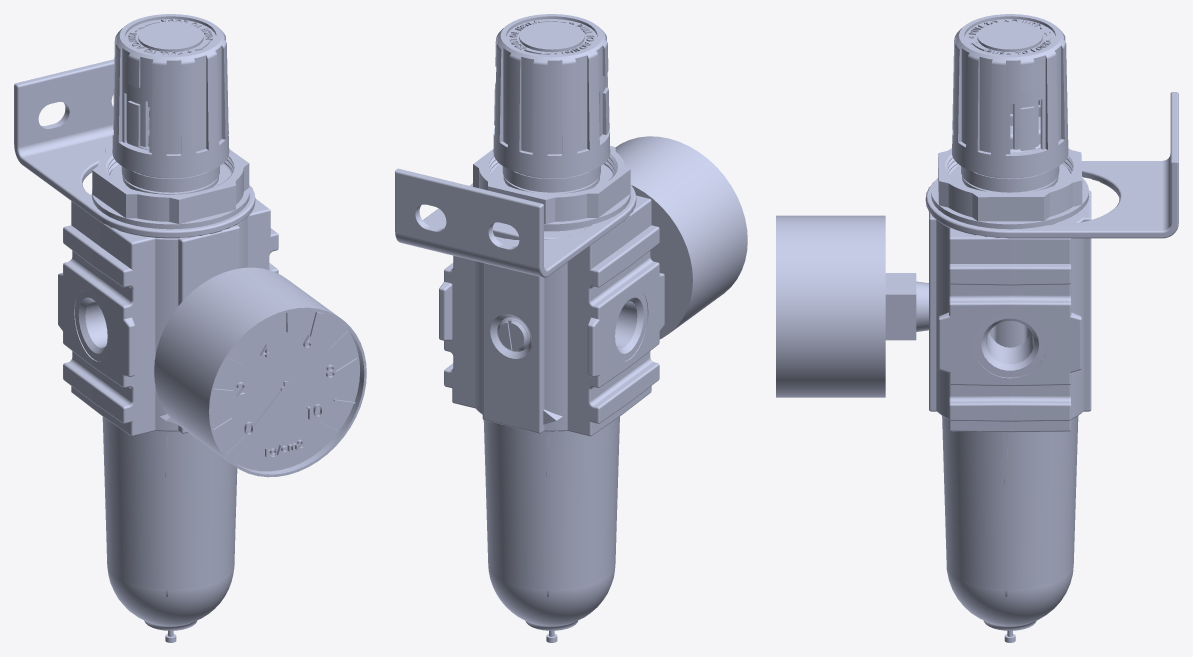
File: afr_real.glb
3 views of the same model, side by side, from view 1: azimuth 30°, elevation 25°; view 2: azimuth 150°, elevation 25°; view 3: azimuth 270°, elevation 25° (orthographic).
Parts seen in each view (by area): view 1: NAUO10, NAUO6, NAUO9, NAUO2, NAUO4, NAUO3, NAUO8, NAUO1; view 2: NAUO6, NAUO9, NAUO2, NAUO10, NAUO4, NAUO3, NAUO8, NAUO1, NAUO5; view 3: NAUO6, NAUO9, NAUO10, NAUO2, NAUO4, NAUO3, NAUO8, NAUO1.
Part boxes in pixels (bbox=[...]): NAUO10: bbox=[154, 267, 366, 477]; NAUO6: bbox=[58, 194, 278, 436]; NAUO9: bbox=[102, 416, 237, 630]; NAUO2: bbox=[112, 14, 229, 177]; NAUO4: bbox=[14, 59, 255, 238]; NAUO3: bbox=[92, 146, 249, 229]; NAUO8: bbox=[121, 166, 219, 192]; NAUO1: bbox=[109, 107, 231, 194]; NAUO6: bbox=[439, 195, 664, 436]; NAUO9: bbox=[483, 416, 619, 630]; NAUO2: bbox=[493, 14, 610, 177]; NAUO10: bbox=[615, 136, 747, 339]; NAUO4: bbox=[395, 168, 636, 277]; NAUO3: bbox=[473, 146, 630, 229]; NAUO8: bbox=[502, 166, 600, 192]; NAUO1: bbox=[491, 164, 612, 231]; NAUO5: bbox=[497, 317, 529, 351]; NAUO6: bbox=[929, 190, 1091, 432]; NAUO9: bbox=[942, 416, 1078, 630]; NAUO10: bbox=[776, 215, 928, 397]; NAUO2: bbox=[952, 14, 1068, 177]; NAUO4: bbox=[925, 92, 1178, 238]; NAUO3: bbox=[931, 148, 1088, 229]; NAUO8: bbox=[961, 166, 1059, 192]; NAUO1: bbox=[949, 104, 1070, 224].
Bounding box in the file's own units: 0.0432 × 0.1582 × 0.0955.
